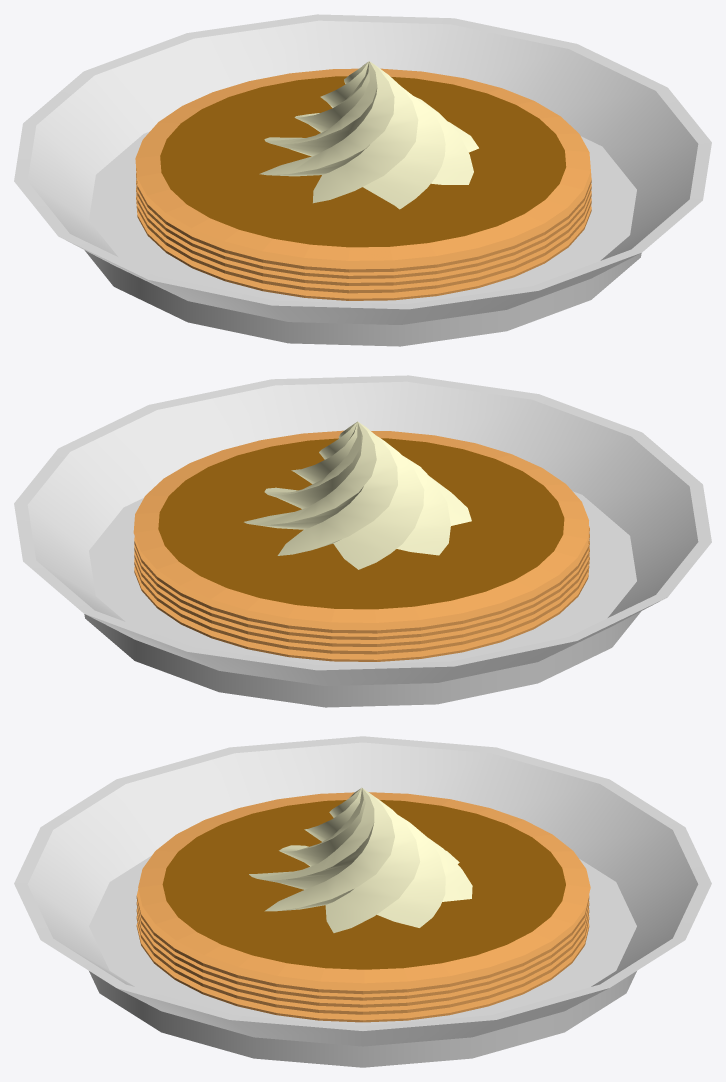
The model's file is Panqueques con crema.fbx.
3 views of the same model, one above another, from view 1: azimuth 30°, elevation 25°; view 2: azimuth 150°, elevation 25°; view 3: azimuth 270°, elevation 25° (orthographic).
Visible parts, largest first — view 1: Plato.019; view 2: Plato.019; view 3: Plato.019.
Boxes of the visible parts, <box> form: Plato.019: <box>14,14,711,346</box>; Plato.019: <box>14,375,711,707</box>; Plato.019: <box>14,736,711,1067</box>.
Size of the model in its own units: 238 by 61.14 by 238.
